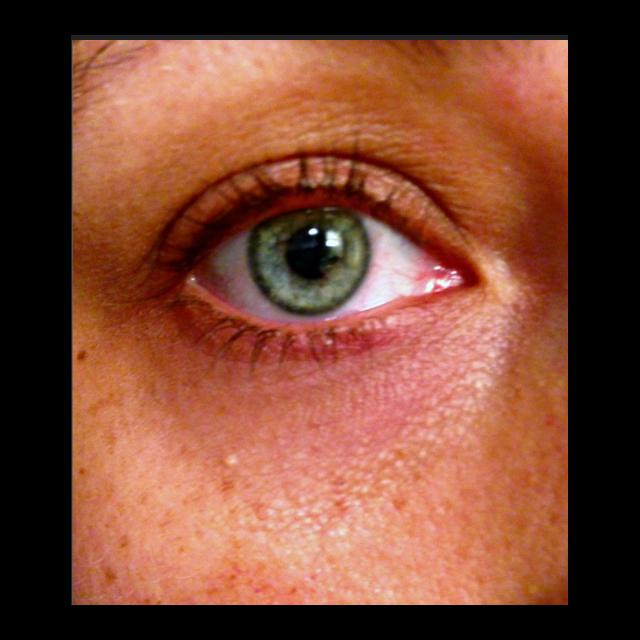eye: (212, 204, 429, 328)
iris: (253, 212, 366, 317)
